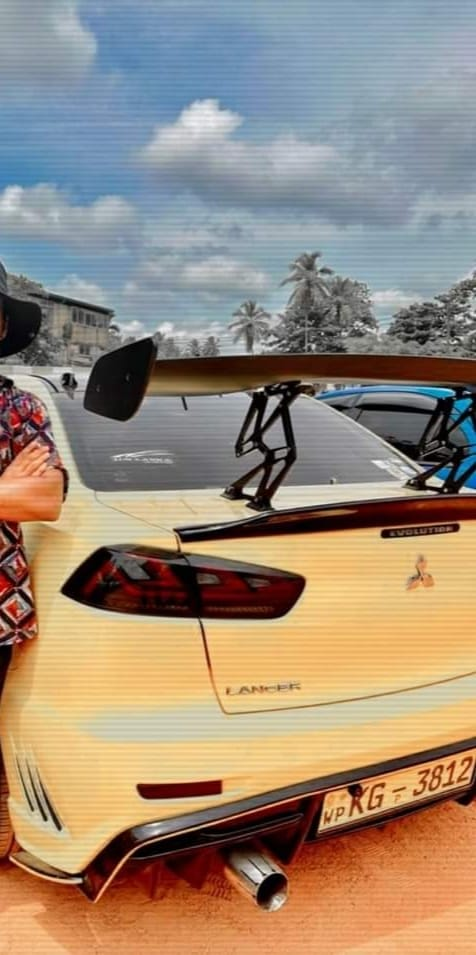number_plate: (314, 748, 472, 831)
